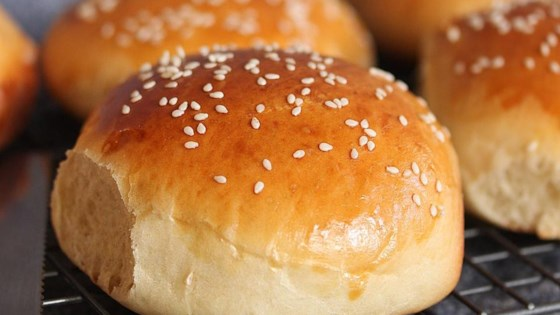hamburger_buns: (51, 50, 455, 315), (414, 15, 560, 262)
